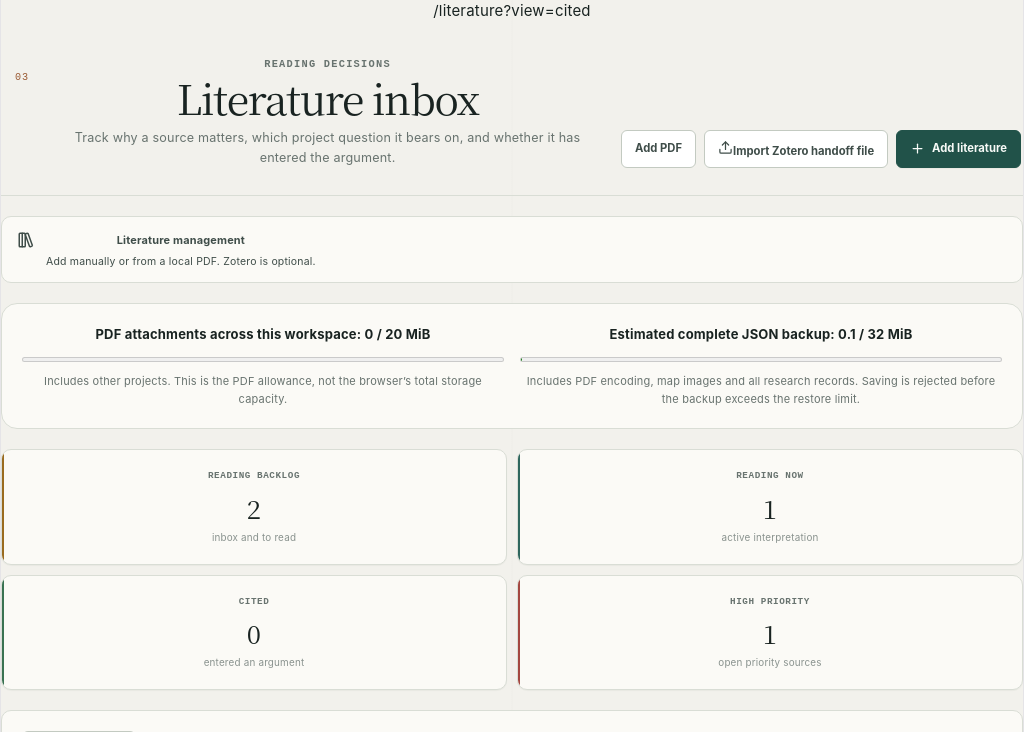
Test case: LiteraturePage Zotero handoff › makes a saved manual source visible even when the prior view excluded its status
Step 1. Click the button "Add literature" → (959, 149), box [896,130,1021,168]
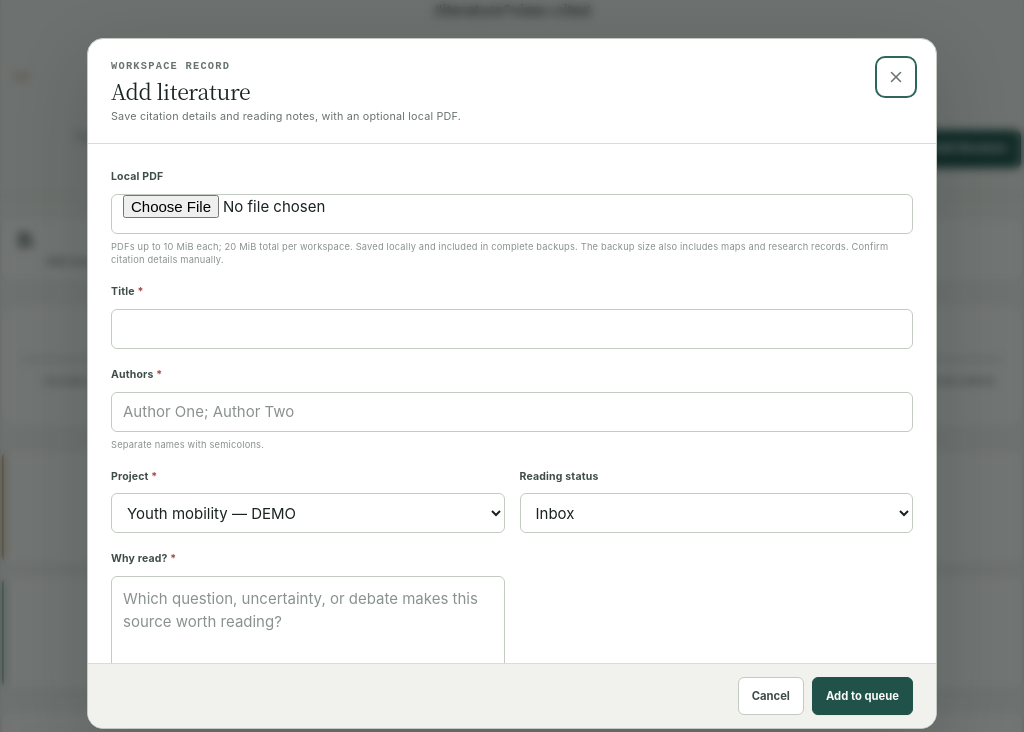
Step 2. Type "SYNTHETIC new manual source" into the field labelled "Title" → (512, 329), box [111,309,913,349]
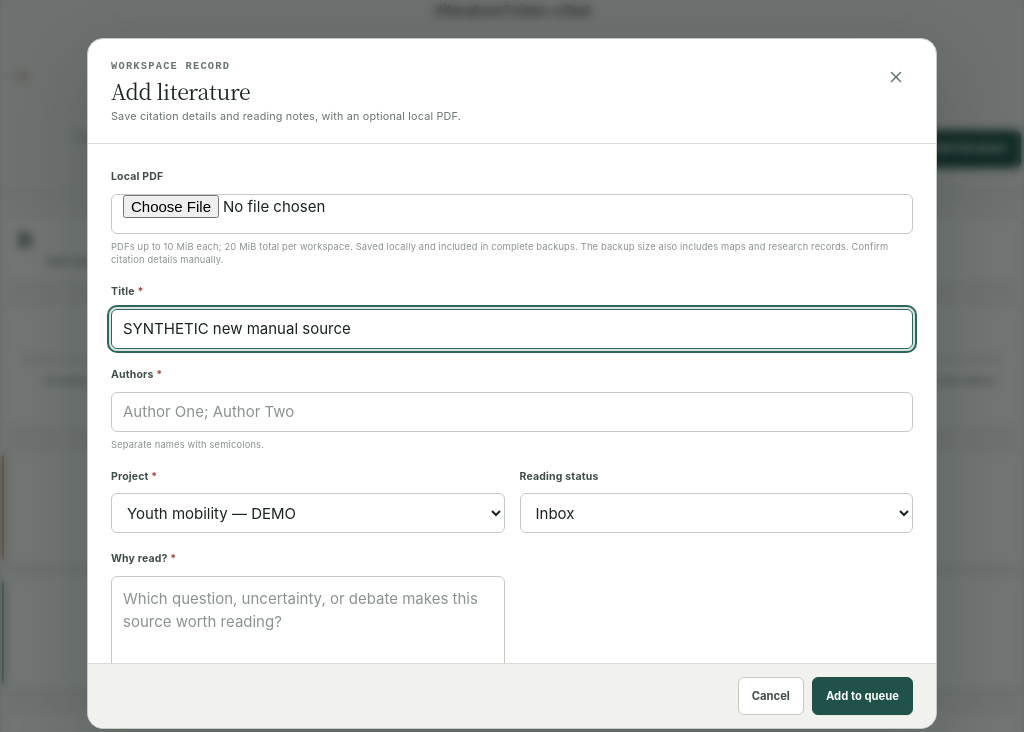
Step 3. Type "Synthetic Author" into the field labelled "Authors" → (512, 412), box [111,392,913,432]
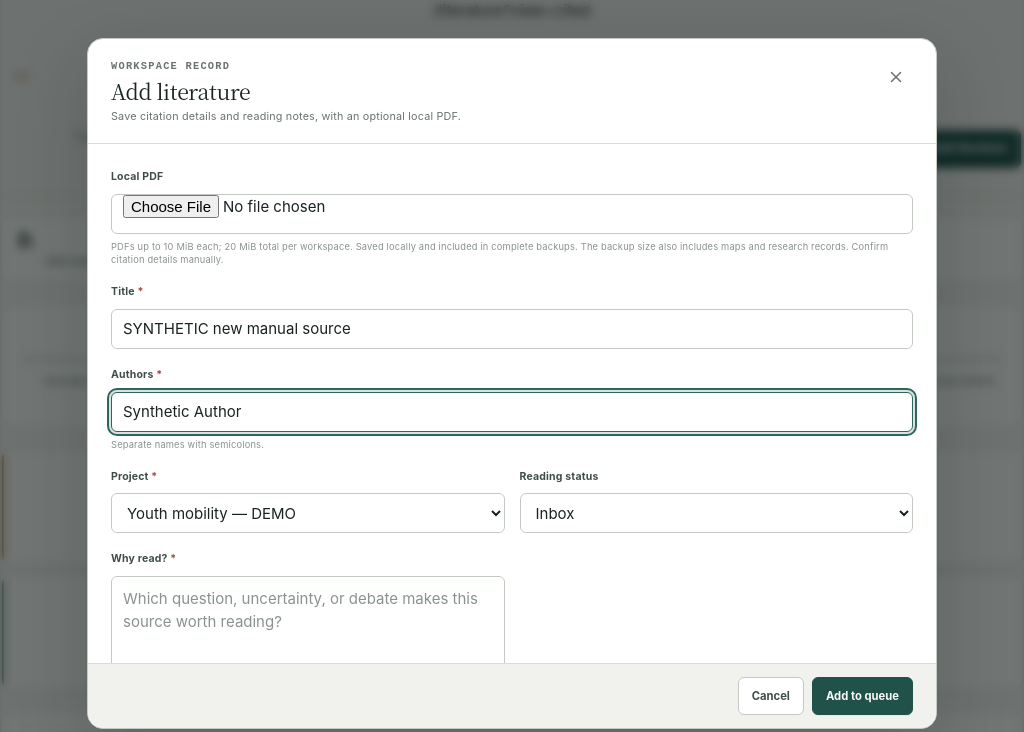
Step 4. Type "SYNTHETIC project rationale" into the text box labelled "Why read?" → (308, 634), box [111,576,504,692]
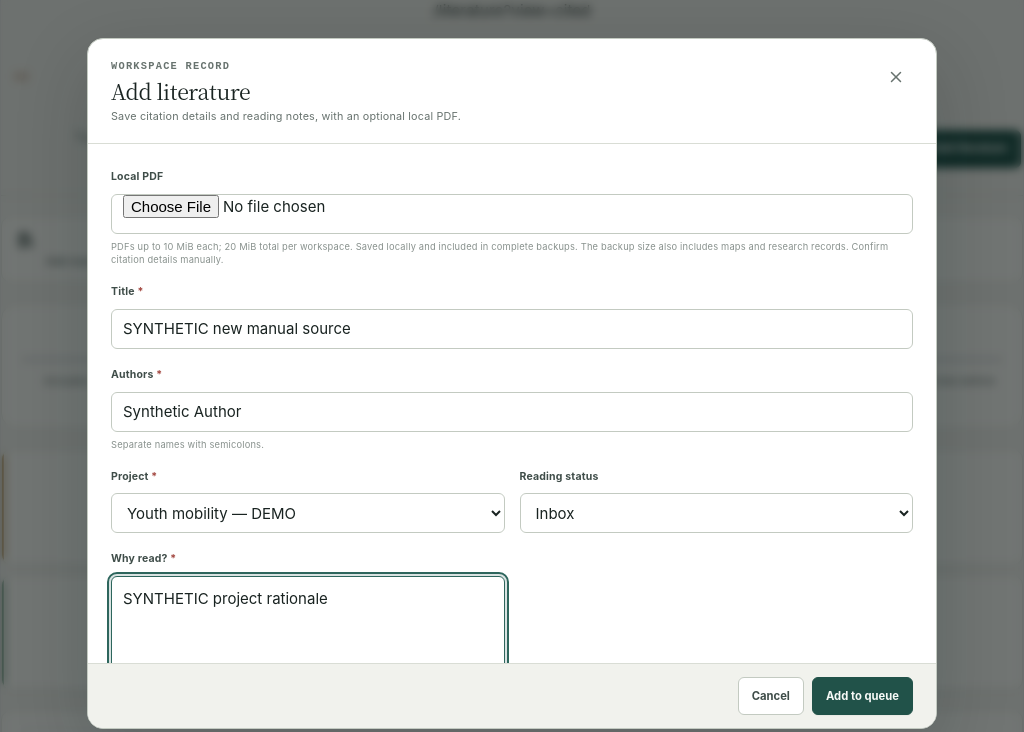
Step 5. Click the button "Add to queue" → (862, 697), box [812,678,913,716]
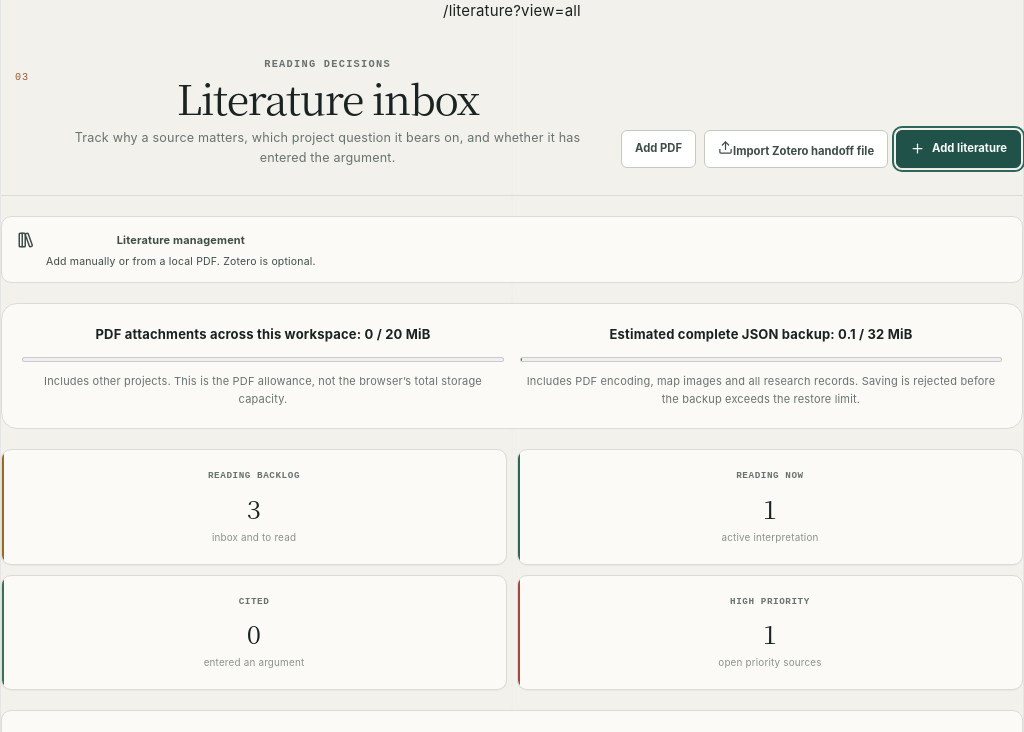
Result: the dialog is gone
Result: the text named "test location" reads "/literature?view=all" at [443,1,581,20]
